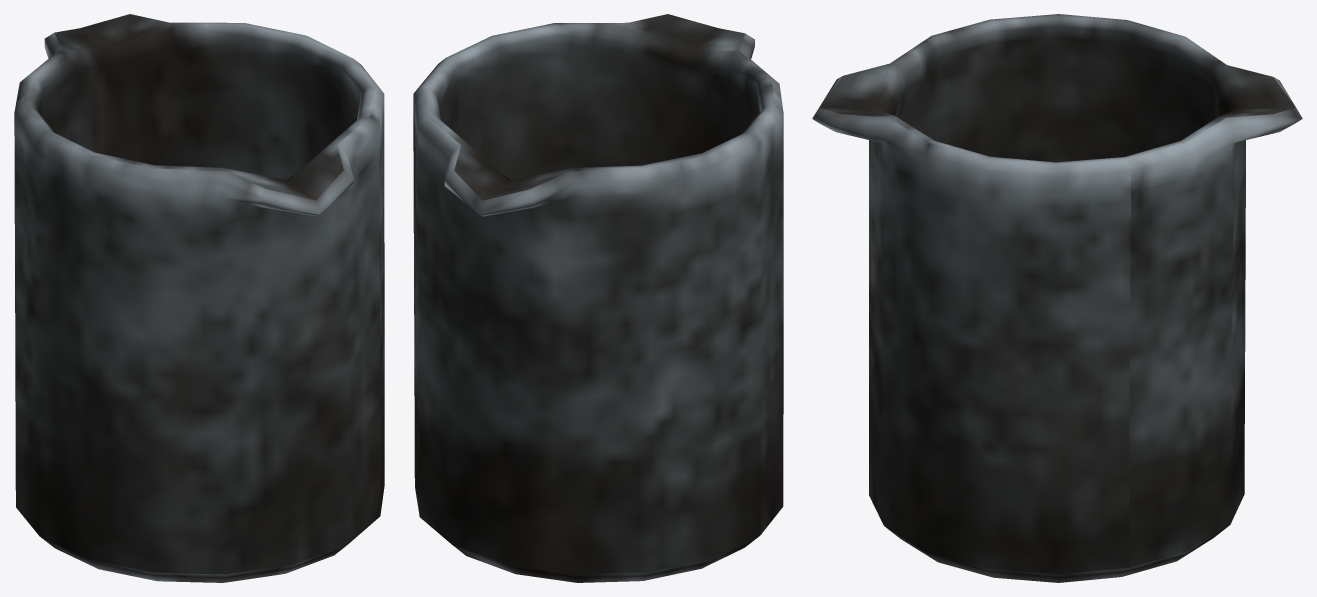
File: crucible.glb
3 views of the same model, side by side, from view 1: azimuth 30°, elevation 25°; view 2: azimuth 150°, elevation 25°; view 3: azimuth 270°, elevation 25° (orthographic).
Visible parts, largest first — view 1: SM_Tool01_Jar_Large2_189_M_Tools01_0; view 2: SM_Tool01_Jar_Large2_189_M_Tools01_0; view 3: SM_Tool01_Jar_Large2_189_M_Tools01_0.
Boxes of the visible parts, x1,y1,x2,y2 form: SM_Tool01_Jar_Large2_189_M_Tools01_0: [14, 14, 384, 582]; SM_Tool01_Jar_Large2_189_M_Tools01_0: [413, 14, 783, 582]; SM_Tool01_Jar_Large2_189_M_Tools01_0: [812, 14, 1302, 582].
Bounding box in the file's own units: 16.84 × 20.73 × 21.9.
Materials: 1 (1 with a texture image).
